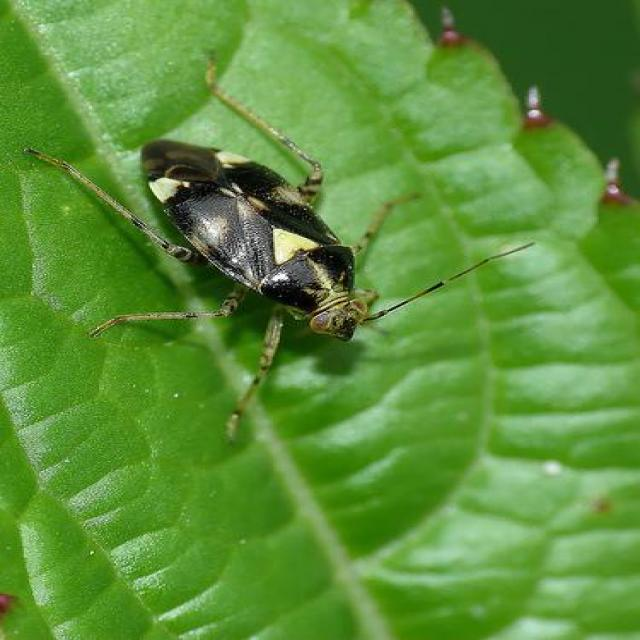Miridae-Adult-: (27, 39, 473, 430)
